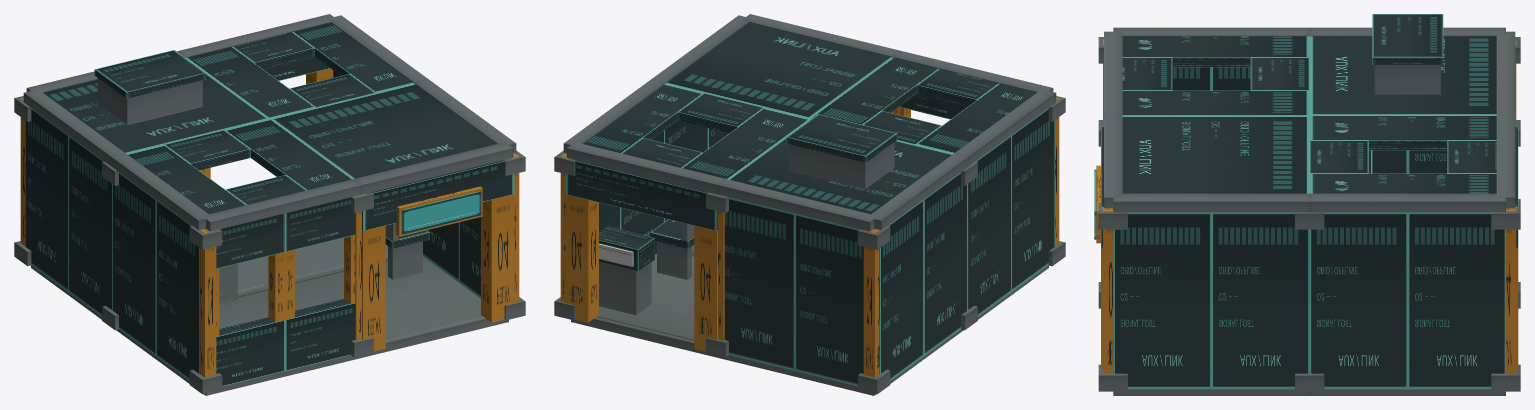
Rendered from CargoDepot_Intact_LOD3.obj.
3 renders of one model, left to right at view 1: azimuth 30°, elevation 25°; view 2: azimuth 150°, elevation 25°; view 3: azimuth 270°, elevation 25°, orthographic. The views are drawn at different scales.
Visible parts, largest first — view 1: 005_roof_4m.003, 019_doorframe_4m.003, 007_roof_skylight_4m.003, 001_roof_skylight_4m.003, 017_wall_window_2m.003, 016_wall_window_2m.003, 004_floor_4m.003, 003_roof_4m.003, 024_wall_vent_2m.003, 021_wall_solid_2m.003, 025_wall_vent_2m.003, 022_wall_solid_2m.003 (+23 smaller); view 2: 030_doorframe_4m.003, 005_roof_4m.003, 028_wall_solid_2m.007, 027_wall_solid_2m.003, 007_roof_skylight_4m.003, 001_roof_skylight_4m.003, 022_wall_solid_2m.003, 025_wall_vent_2m.003, 021_wall_solid_2m.003, 024_wall_vent_2m.003, 003_roof_4m.003, 039_hvac_unit.003 (+21 smaller); view 3: 032_wall_solid_2m.003, 033_wall_solid_2m.003, 035_wall_vent_2m.003, 036_wall_vent_2m.003, 005_roof_4m.003, 001_roof_skylight_4m.003, 007_roof_skylight_4m.003, 003_roof_4m.003, 039_hvac_unit.003, 034_beam_4m.003, 037_beam_4m.003, 013_column_4m.007 (+17 smaller).
Boxes of the visible parts, bbox=[...] form: 005_roof_4m.003: bbox=[270, 83, 496, 179]; 019_doorframe_4m.003: bbox=[362, 158, 514, 351]; 007_roof_skylight_4m.003: bbox=[187, 22, 413, 118]; 001_roof_skylight_4m.003: bbox=[127, 119, 351, 214]; 017_wall_window_2m.003: bbox=[285, 197, 355, 371]; 016_wall_window_2m.003: bbox=[216, 213, 285, 386]; 004_floor_4m.003: bbox=[295, 256, 508, 358]; 003_roof_4m.003: bbox=[43, 58, 269, 153]; 024_wall_vent_2m.003: bbox=[68, 135, 112, 316]; 021_wall_solid_2m.003: bbox=[156, 199, 200, 380]; 025_wall_vent_2m.003: bbox=[25, 108, 68, 292]; 022_wall_solid_2m.003: bbox=[112, 172, 155, 356]; 030_doorframe_4m.003: bbox=[565, 158, 717, 351]; 005_roof_4m.003: bbox=[666, 22, 892, 118]; 028_wall_solid_2m.007: bbox=[724, 197, 794, 371]; 027_wall_solid_2m.003: bbox=[794, 213, 863, 386]; 007_roof_skylight_4m.003: bbox=[583, 83, 809, 179]; 001_roof_skylight_4m.003: bbox=[810, 58, 1036, 153]; 022_wall_solid_2m.003: bbox=[967, 135, 1011, 316]; 025_wall_vent_2m.003: bbox=[879, 199, 923, 380]; 021_wall_solid_2m.003: bbox=[1011, 108, 1054, 292]; 024_wall_vent_2m.003: bbox=[924, 172, 967, 356]; 003_roof_4m.003: bbox=[728, 119, 952, 214]; 039_hvac_unit.003: bbox=[786, 114, 897, 189]; 032_wall_solid_2m.003: bbox=[1113, 212, 1211, 389]; 033_wall_solid_2m.003: bbox=[1211, 212, 1309, 389]; 035_wall_vent_2m.003: bbox=[1309, 212, 1407, 389]; 036_wall_vent_2m.003: bbox=[1408, 212, 1505, 389]; 005_roof_4m.003: bbox=[1122, 115, 1309, 193]; 001_roof_skylight_4m.003: bbox=[1122, 36, 1309, 115]; 007_roof_skylight_4m.003: bbox=[1309, 115, 1496, 193]; 003_roof_4m.003: bbox=[1309, 36, 1496, 115]; 039_hvac_unit.003: bbox=[1372, 14, 1443, 94]; 034_beam_4m.003: bbox=[1113, 193, 1309, 212]; 037_beam_4m.003: bbox=[1309, 193, 1505, 212]; 013_column_4m.007: bbox=[1098, 203, 1127, 391].
Bounding box in the file's own units: 8.52 × 5.3 × 8.69.
Materials: 1 (1 with a texture image).
